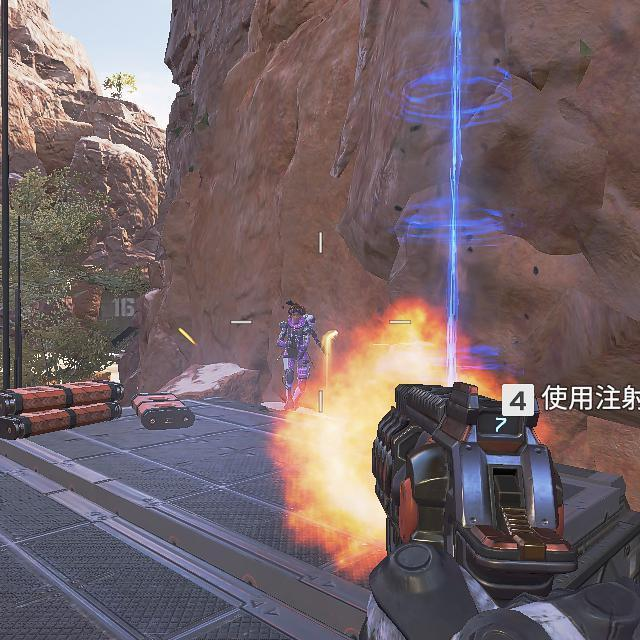avatar: (275, 301, 317, 412)
